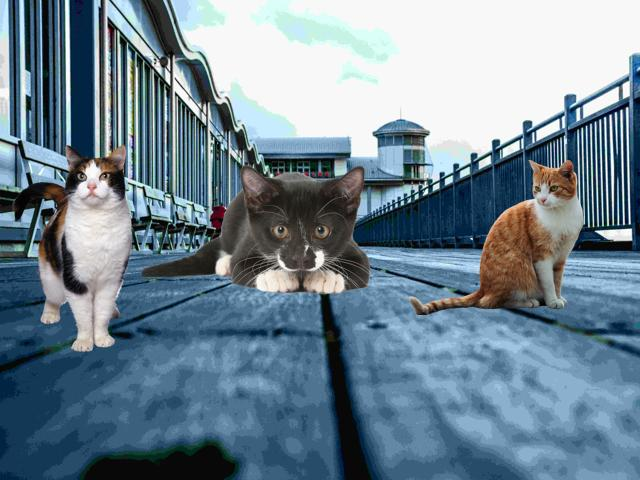cat: (144, 157, 406, 302), (411, 162, 584, 313), (14, 146, 131, 350)
